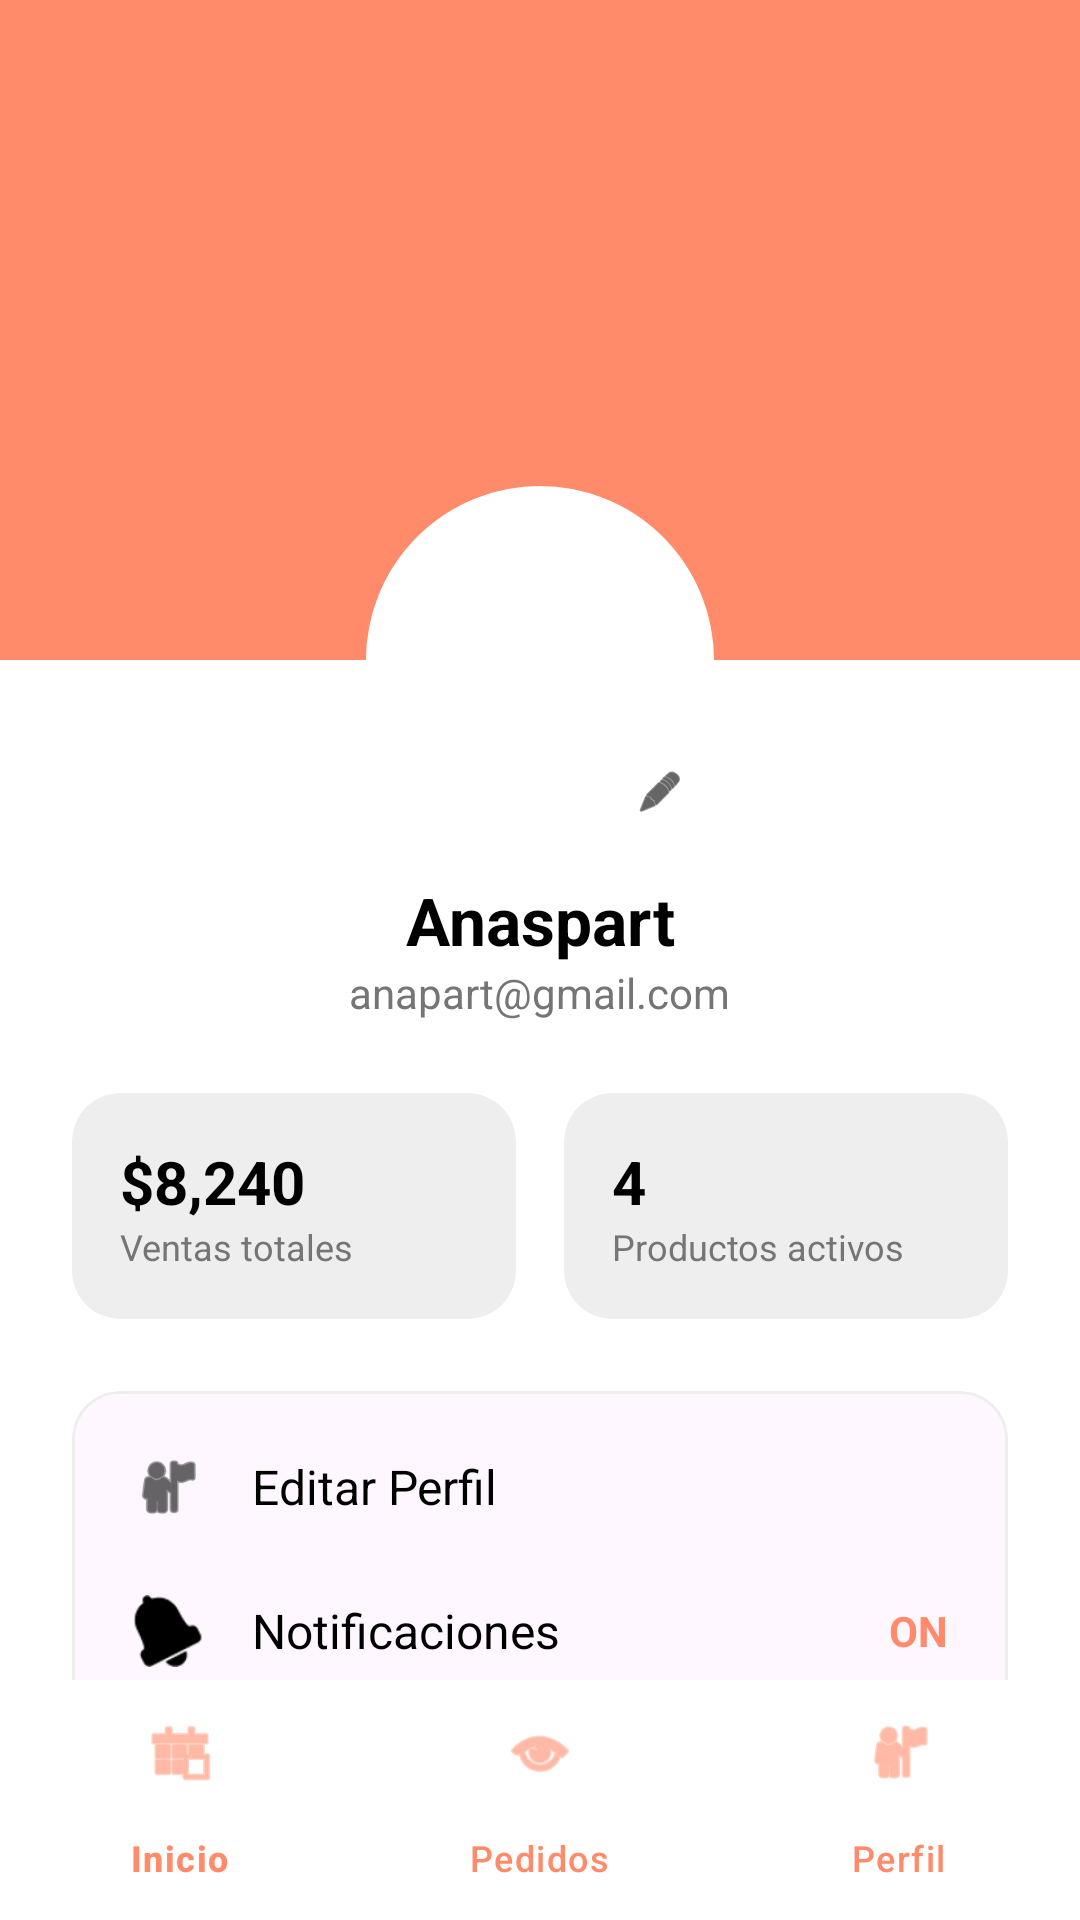

Screen size 1080x1920. Icon name, then its box in pixels as (x1, y1, x2, y2):
Notifications: (134, 1595, 202, 1667)
